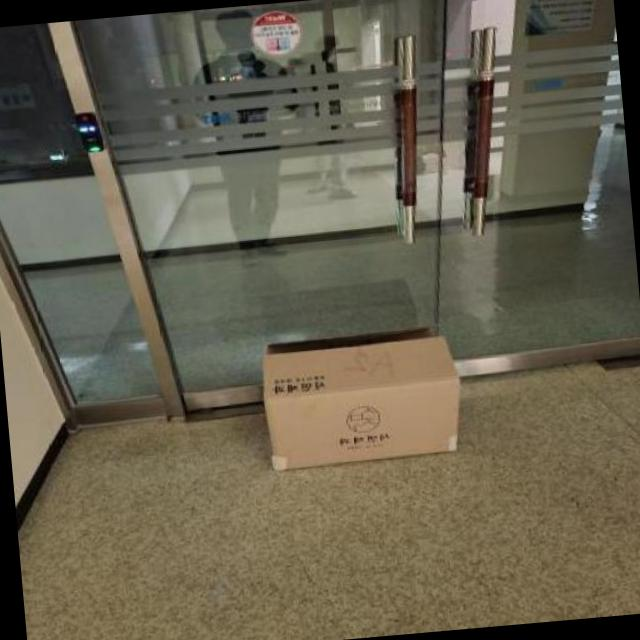box: (244, 315, 475, 482)
